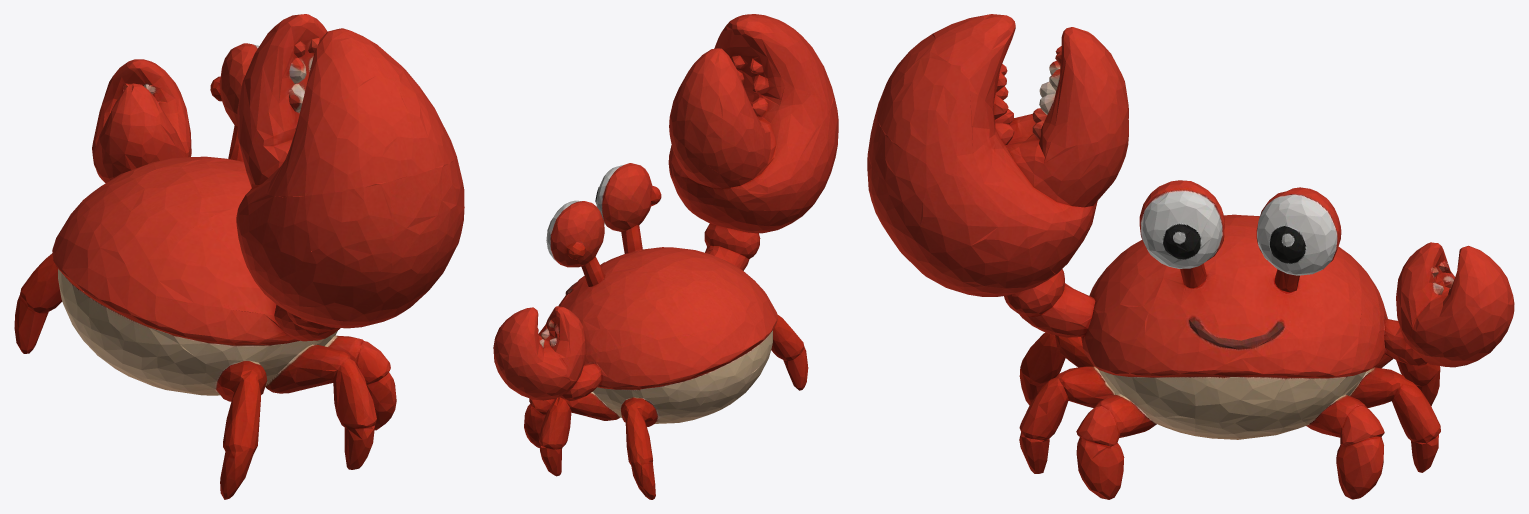
The model's file is sebastian.glb.
3 views of the same model, side by side, from view 1: azimuth 30°, elevation 25°; view 2: azimuth 150°, elevation 25°; view 3: azimuth 270°, elevation 25° (orthographic). The views are drawn at different scales.
Visible parts, largest first — view 1: tripo_node_c25ccdb3-46a2-41cb-a334-54b6393d0198; view 2: tripo_node_c25ccdb3-46a2-41cb-a334-54b6393d0198; view 3: tripo_node_c25ccdb3-46a2-41cb-a334-54b6393d0198.
Boxes of the visible parts, x1,y1,x2,y2 form: tripo_node_c25ccdb3-46a2-41cb-a334-54b6393d0198: (14,14,464,499); tripo_node_c25ccdb3-46a2-41cb-a334-54b6393d0198: (493,14,838,499); tripo_node_c25ccdb3-46a2-41cb-a334-54b6393d0198: (867,14,1514,499).
Size of the model in its own units: 0.4253 by 0.734 by 0.9789.
1 material, 1 textured.
